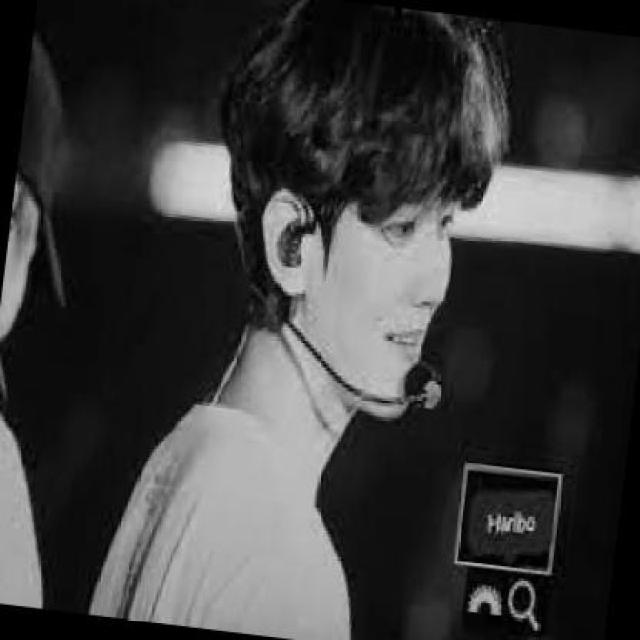earphone: (278, 214, 321, 285)
